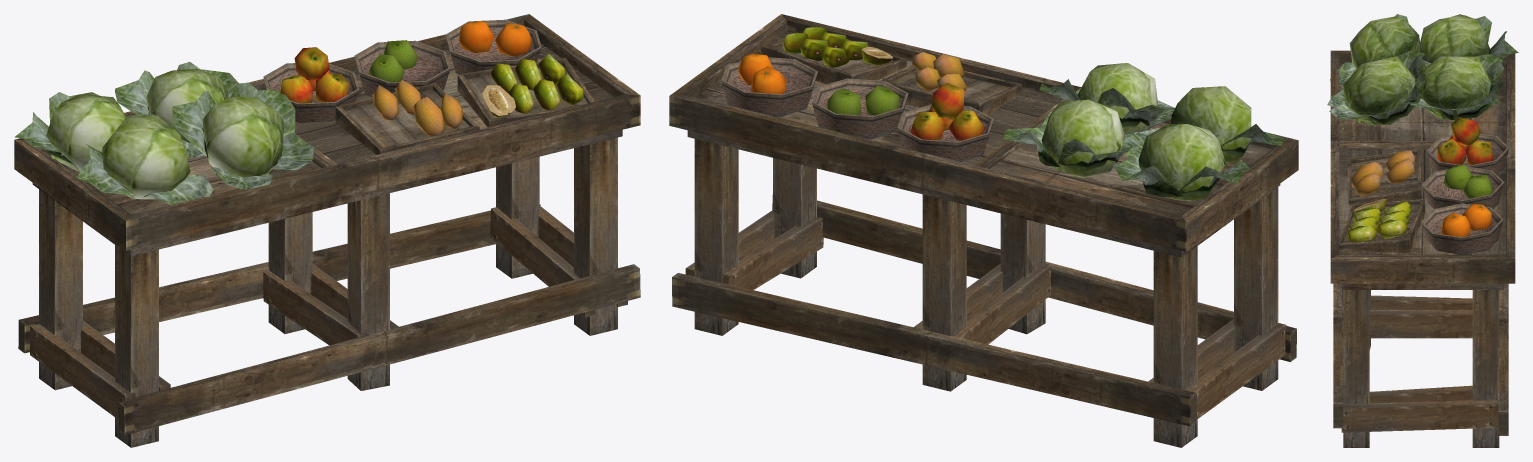
File: shop2.fbx
The picture shows the model from 3 angles, left to right: view 1: azimuth 30°, elevation 25°; view 2: azimuth 150°, elevation 25°; view 3: azimuth 270°, elevation 25°; orthographic projection. The views are drawn at different scales.
Parts seen in each view (by area): view 1: LV_M5_Port_FruitShop02_SM_KHJ; view 2: LV_M5_Port_FruitShop02_SM_KHJ; view 3: LV_M5_Port_FruitShop02_SM_KHJ.
Boxes of the visible parts, x1,y1,x2,y2 form: LV_M5_Port_FruitShop02_SM_KHJ: (14, 14, 640, 447); LV_M5_Port_FruitShop02_SM_KHJ: (669, 14, 1298, 447); LV_M5_Port_FruitShop02_SM_KHJ: (1327, 14, 1518, 447).
Size of the model in its own units: 0.4673 by 0.2453 by 0.1729.
Materials: 1 (1 with a texture image).
